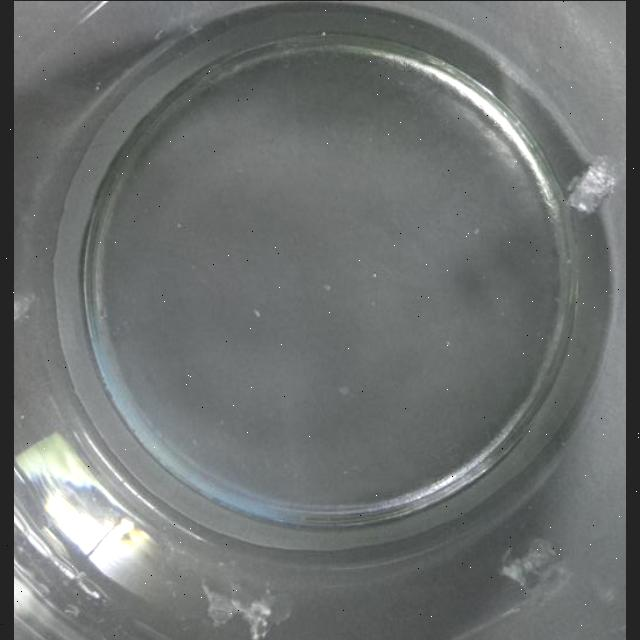Fibre: (199, 574, 283, 640), (501, 538, 562, 590), (566, 157, 620, 213), (13, 292, 32, 322), (252, 308, 260, 316)
